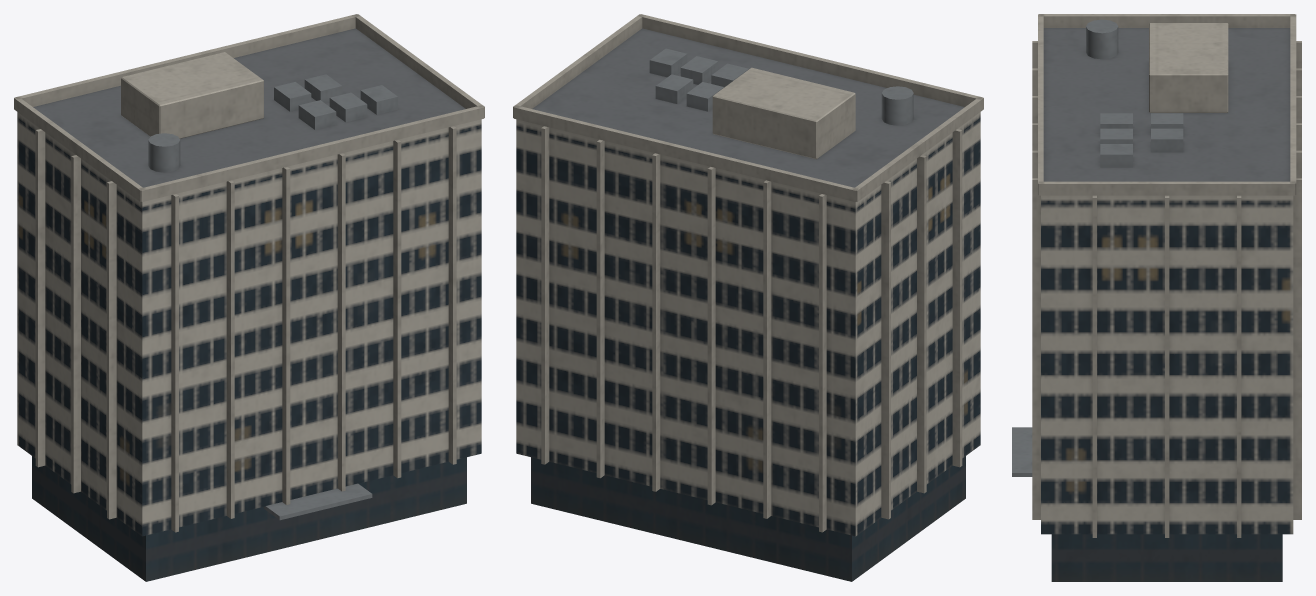
The model's file is office-midrise.fbx.
3 views of the same model, side by side, from view 1: azimuth 30°, elevation 25°; view 2: azimuth 150°, elevation 25°; view 3: azimuth 270°, elevation 25° (orthographic).
Parts seen in each view (by area): view 1: office-midrise; view 2: office-midrise; view 3: office-midrise.
Part boxes in pixels (x1=…): office-midrise: x1=14, y1=14, x2=484, y2=581; office-midrise: x1=513, y1=14, x2=983, y2=581; office-midrise: x1=1012, y1=14, x2=1301, y2=581.
Bounding box in the file's own units: 3214 × 3696 × 2251.
1 material, 1 textured.
